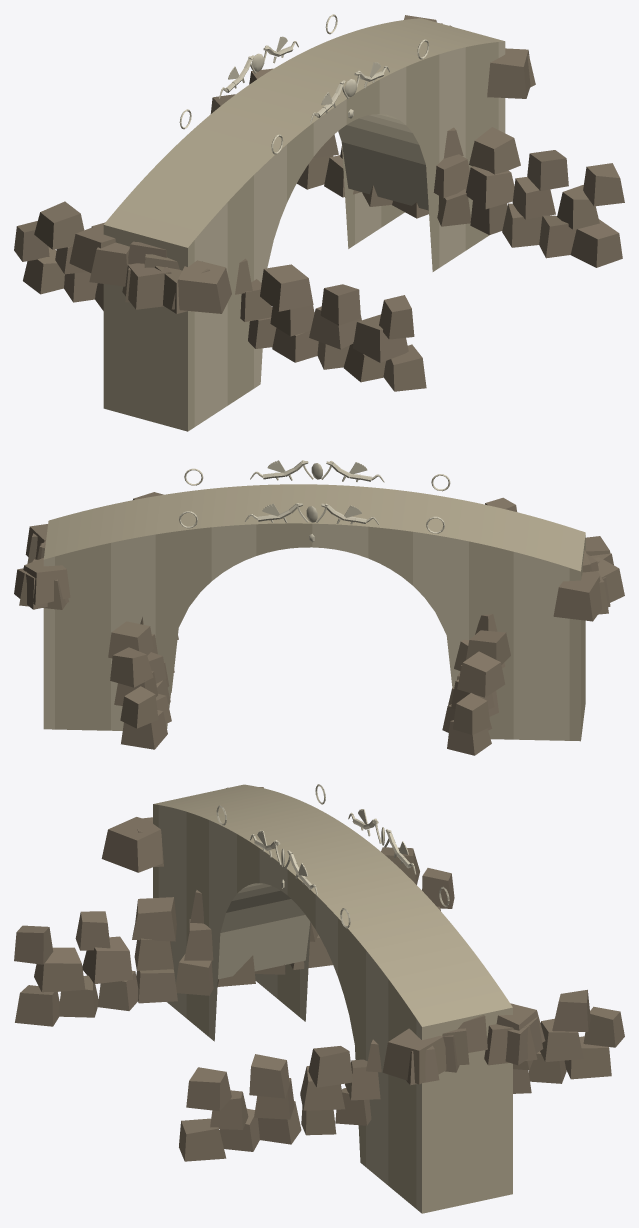
The model's file is drakon_most.lod.glb.
3 renders of one model, top to bottom at view 1: azimuth 30°, elevation 25°; view 2: azimuth 150°, elevation 25°; view 3: azimuth 270°, elevation 25°, orthographic. The views are drawn at different scales.
Parts seen in each view (by area): view 1: drakon_most_wall2, drakon_most_stone, drakon_most_wall, drakon_most_trim_s; view 2: drakon_most_wall2, drakon_most_wall, drakon_most_stone, drakon_most_trim_s; view 3: drakon_most_wall2, drakon_most_stone, drakon_most_wall, drakon_most_trim_s.
Boxes of the visible parts, x1,y1,x2,y2 form: drakon_most_wall2: (103, 18, 504, 431); drakon_most_stone: (14, 15, 624, 391); drakon_most_wall: (194, 41, 505, 426); drakon_most_trim_s: (179, 14, 429, 154); drakon_most_wall2: (43, 484, 585, 741); drakon_most_wall: (43, 523, 569, 740); drakon_most_stone: (14, 492, 624, 755); drakon_most_trim_s: (179, 460, 450, 542); drakon_most_wall2: (153, 784, 512, 1213); drakon_most_stone: (14, 787, 624, 1161); drakon_most_wall: (158, 805, 421, 1213); drakon_most_trim_s: (216, 784, 449, 928).
Bounding box in the file's own units: 18.57 × 8.34 × 17.95.
